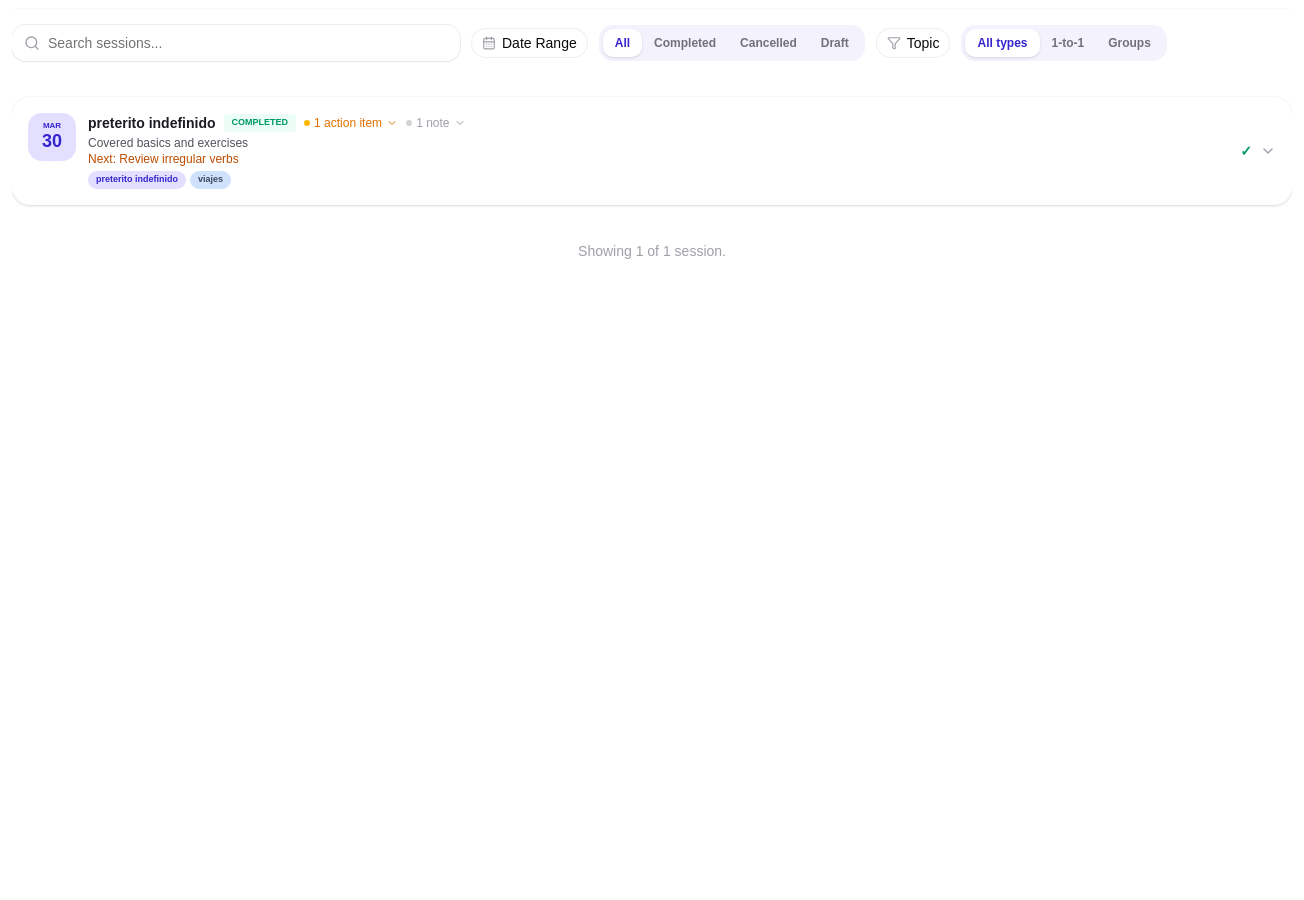
Scenario: SessionHistoryTab › shows topic tag chips with category colors in expanded view
Click the button with test id "session-entry-toggle" at (52, 137), box [12, 97, 1292, 204]
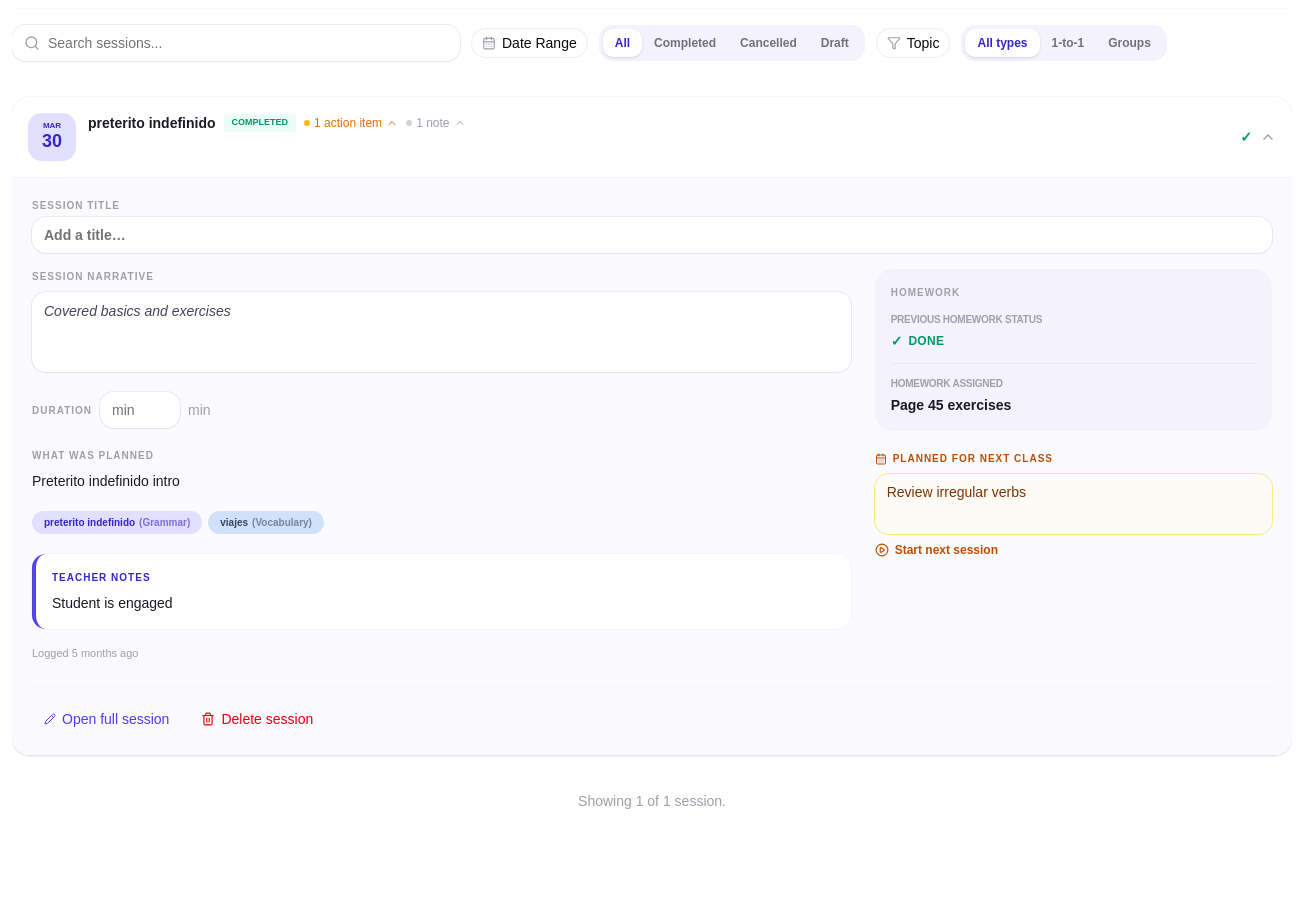
Expected: the number of elements with test id "topic-tag-chip" is 2, [32, 511, 202, 534]; [208, 511, 324, 534]
Expected: the element with test id "topic-tag-chip" shows "preterito indefinido", [44, 517, 135, 528]
Expected: the element with test id "topic-tag-chip" shows "viajes", [220, 517, 248, 528]
